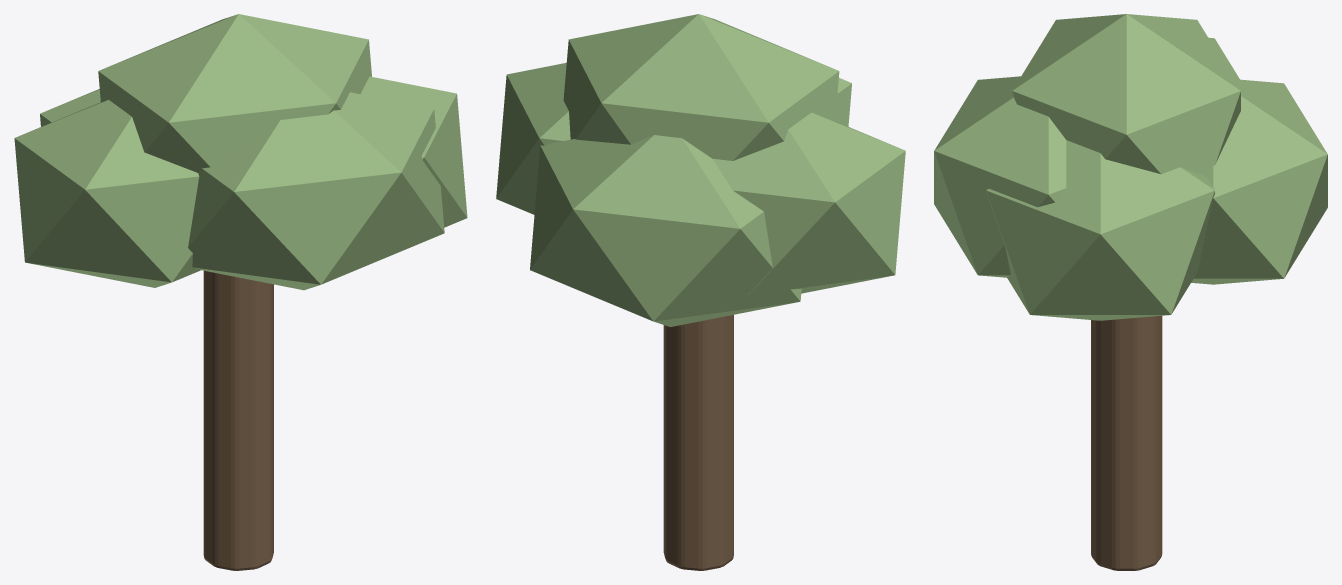
The model's file is oak_tree.glb.
3 views of the same model, side by side, from view 1: azimuth 30°, elevation 25°; view 2: azimuth 150°, elevation 25°; view 3: azimuth 270°, elevation 25° (orthographic).
Parts seen in each view (by area): view 1: LeafCluster.004, LeafCluster, LeafCluster.001, TreeTrunk, LeafCluster.002, LeafCluster.003; view 2: LeafCluster.003, LeafCluster, LeafCluster.001, TreeTrunk, LeafCluster.002, LeafCluster.004; view 3: LeafCluster.002, LeafCluster, LeafCluster.003, TreeTrunk, LeafCluster.004.
Part boxes in pixels (<box>): LeafCluster.004: <box>188,92,444,290</box>; LeafCluster: <box>98,14,371,172</box>; LeafCluster.001: <box>14,100,201,287</box>; TreeTrunk: <box>203,271,273,570</box>; LeafCluster.002: <box>360,76,467,227</box>; LeafCluster.003: <box>40,89,100,126</box>; LeafCluster.003: <box>530,135,801,326</box>; LeafCluster: <box>563,14,839,160</box>; LeafCluster.001: <box>712,112,905,294</box>; TreeTrunk: <box>663,315,733,570</box>; LeafCluster.002: <box>496,63,570,214</box>; LeafCluster.004: <box>835,78,851,126</box>; LeafCluster.002: <box>986,140,1214,320</box>; LeafCluster: <box>1012,14,1240,176</box>; LeafCluster.003: <box>1191,79,1327,284</box>; TreeTrunk: <box>1091,315,1162,570</box>; LeafCluster.004: <box>934,76,1066,277</box>.
Bounding box in the file's own units: 5.47 × 6.92 × 4.54.
